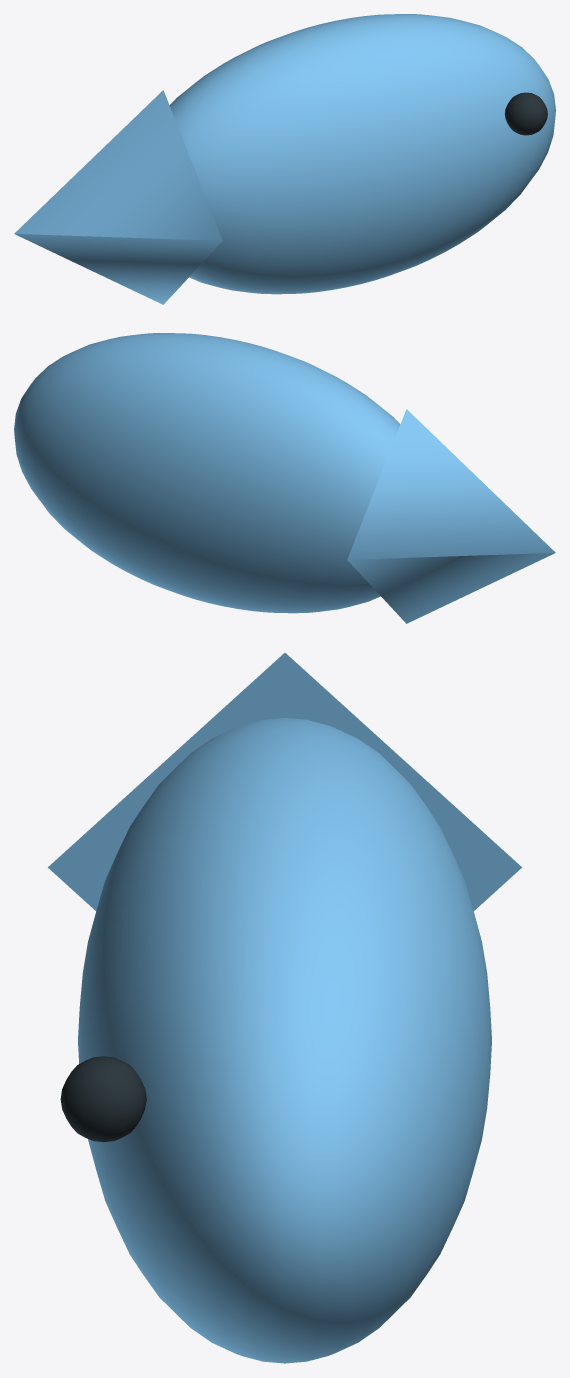
Rendered from isda.glb.
The picture shows the model from 3 angles, top to bottom: view 1: azimuth 30°, elevation 25°; view 2: azimuth 150°, elevation 25°; view 3: azimuth 270°, elevation 25°; orthographic projection. The views are drawn at different scales.
Size of the model in its own units: 2.87 by 1.28 by 1.1.
